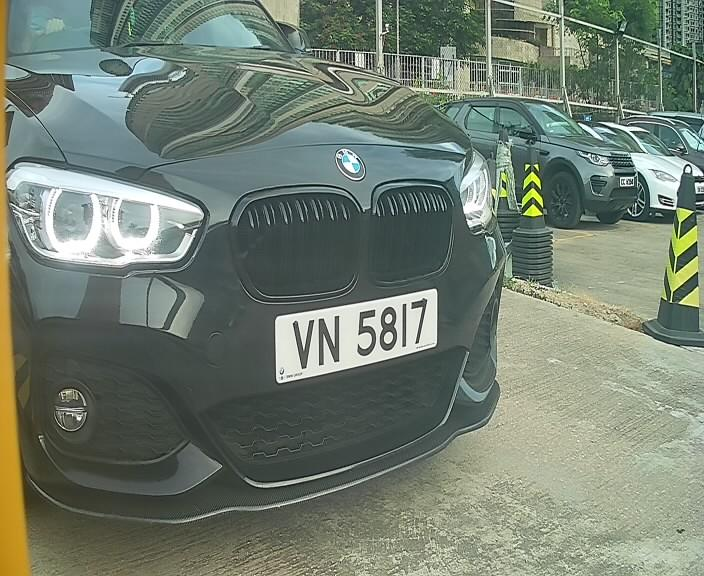License Plate: (268, 283, 441, 386)
